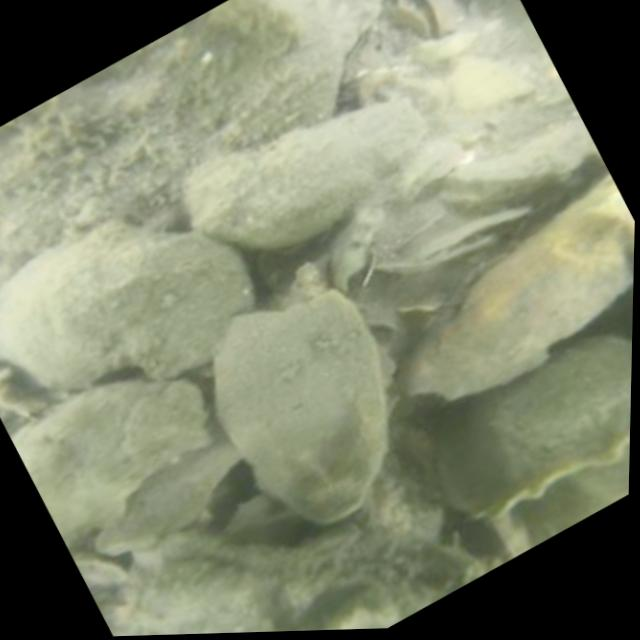Oyster-Indeterminate: (0, 0, 350, 257), (206, 289, 396, 533), (0, 222, 257, 385), (433, 335, 632, 529), (179, 100, 436, 250), (13, 382, 209, 548), (447, 51, 533, 108), (207, 0, 310, 44)
Oyster-Open: (389, 0, 454, 33)
